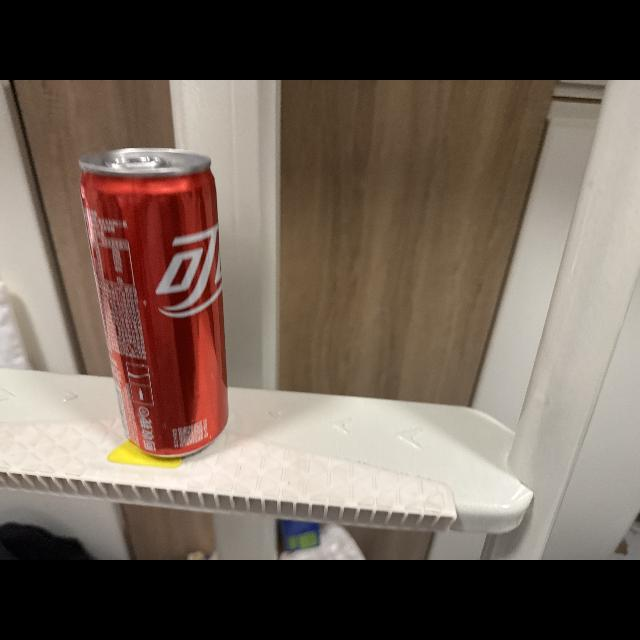Cola: (71, 140, 245, 464)
